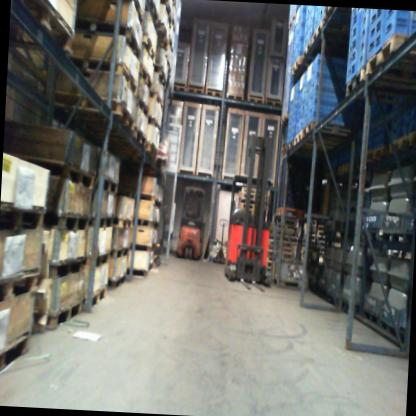forklift: (223, 131, 279, 294), (176, 185, 207, 261)
pallet: (8, 0, 77, 55), (52, 92, 136, 131), (72, 17, 141, 59), (72, 57, 139, 95), (25, 156, 95, 189), (365, 33, 416, 78), (345, 66, 401, 100), (0, 265, 40, 309), (0, 330, 30, 380), (46, 295, 83, 332), (0, 203, 45, 233), (43, 210, 90, 233), (48, 252, 84, 280), (301, 120, 349, 139), (293, 129, 337, 148), (137, 61, 154, 93), (388, 131, 411, 154), (141, 34, 157, 65), (380, 229, 413, 244), (121, 0, 143, 22), (367, 142, 386, 163), (129, 125, 147, 147), (158, 0, 172, 28), (135, 95, 151, 119), (156, 21, 169, 50), (290, 56, 309, 75), (275, 206, 306, 217), (310, 20, 324, 44), (153, 64, 167, 88), (378, 317, 395, 336), (91, 285, 106, 306), (110, 243, 128, 260), (362, 307, 380, 324), (94, 249, 110, 268), (107, 273, 126, 289), (145, 0, 158, 22), (149, 91, 164, 110), (360, 228, 381, 241), (102, 177, 117, 195), (113, 216, 133, 229), (144, 141, 158, 159), (147, 116, 161, 131), (139, 192, 156, 204), (136, 217, 154, 227), (287, 11, 296, 30), (99, 216, 113, 228), (246, 96, 264, 105), (302, 40, 311, 57), (186, 86, 203, 95), (132, 267, 147, 277), (323, 6, 333, 20), (134, 243, 151, 251), (205, 89, 222, 96), (226, 93, 243, 100), (264, 99, 281, 106), (167, 34, 173, 52), (286, 138, 294, 151), (173, 84, 186, 92), (341, 300, 349, 312), (280, 113, 288, 125), (280, 147, 287, 155)
pallet_truck: (153, 197, 168, 269), (213, 217, 227, 264)
small_load_carrier: (383, 17, 409, 43), (384, 10, 410, 23), (408, 19, 416, 35)
